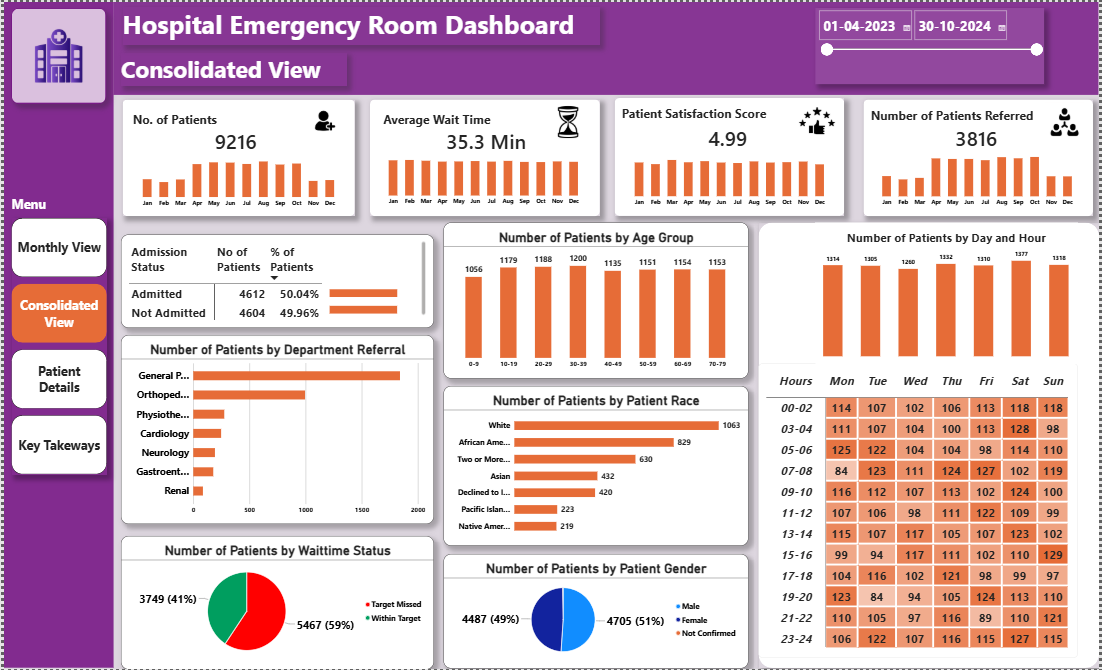

Layout of this report page (visuals, bound fields, positions):
{"tool":"powerbi","page":{"name":"Consolidated View","canvas":[2300,1400],"ordinal":1},"visuals":[{"type":"shape","box":[230,0,2067.5,195],"z":0},{"type":"shape","box":[767.5,205,482.5,245],"z":1000},{"type":"shape","box":[0,0,230,1397.5],"z":2000},{"type":"shape","box":[247.5,205,487.5,245],"z":3000},{"type":"textbox","box":[247.5,10,1001.1,81.1],"z":4000},{"type":"textbox","box":[246.7,106.7,473.3,70],"z":5000},{"type":"pivotTable","fields":{"Rows":["Hospital ER_Data.Admission Status"],"Values":["Hospital ER_Data.Number of Patients","Divide(Hospital ER_Data.Number of Patients, ScopedEval(Hospital ER_Data.Number of Patients, []))"]},"box":[246.7,486.7,656.7,196],"z":5000,"group":"g2"},{"type":"image","box":[15,12.5,198.5,201.3],"z":6000},{"type":"shape","box":[1803.3,203.3,481.7,245],"z":7000},{"type":"barChart","fields":{"Category":["Hospital ER_Data.Admission Status"],"Y":["Hospital ER_Data.Number of Patients"]},"box":[670,563.4,216.7,126.7],"z":7000,"group":"g2"},{"type":"barChart","fields":{"Category":["Hospital ER_Data.Department Referral"],"Y":["Hospital ER_Data.Number of Patients"]},"box":[246.7,700,656.7,396.7],"z":8000},{"type":"barChart","fields":{"Category":["Hospital ER_Data.Patient Race"],"Y":["Hospital ER_Data.Number of Patients"]},"box":[922.5,807.5,640,335],"z":9000},{"type":"card","title":"Number of Patients Referred","fields":{"Values":["Hospital ER_Data.No. of Patients Referred"]},"box":[1805,203.3,473.3,116.7],"z":10000},{"type":"pieChart","fields":{"Category":["Hospital ER_Data.Patient Gender"],"Y":["Hospital ER_Data.Number of Patients"]},"box":[922.5,1160,640,240],"z":11000},{"type":"shape","box":[1282.5,202.5,482.5,247.5],"z":12000},{"type":"columnChart","fields":{"Category":["Hospital ER_Data.Age Group"],"Y":["Hospital ER_Data.Number of Patients"]},"box":[922.5,462.5,640,327.5],"z":13000},{"type":"shape","box":[1582.5,462.5,715,935],"z":13000,"group":"g1"},{"type":"card","title":"No. of Patients","fields":{"Values":["Hospital ER_Data.Total Patients"]},"box":[255.1,214.2,462.2,113.3],"z":14000},{"type":"pivotTable","fields":{"Columns":["Date Table.Day Name"],"Rows":["Hospital ER_Data.Waittime Interval"],"Values":["Hospital ER_Data.Number of Patients"]},"box":[1582.5,760,670,617.5],"z":14000,"group":"g1"},{"type":"columnChart","title":"Number of Patients by Day and Hour","fields":{"Category":["Date Table.Day Name"],"Y":["Hospital ER_Data.Number of Patients"]},"box":[1702.5,462.5,550,297.5],"z":15000,"group":"g1"},{"type":"pieChart","fields":{"Category":["Hospital ER_Data.Waittime Status"],"Y":["Hospital ER_Data.Number of Patients"]},"box":[246.7,1120,656.7,280],"z":15000},{"type":"card","title":"Average Wait Time","fields":{"Values":["Hospital ER_Data.Avg Wait Time"]},"box":[780,214.2,462.5,113.3],"z":16000},{"type":"slicer","fields":{"Values":["Date Table.Date"]},"box":[1703.3,13.3,480,160],"z":17000},{"type":"card","title":"Patient Satisfaction Score","fields":{"Values":["Hospital ER_Data.Satisfaction Score"]},"box":[1282.5,202.5,475,125],"z":18000},{"type":"columnChart","fields":{"Category":["Date Table.Month Name"],"Y":["Hospital ER_Data.No. of Patients Referred"]},"box":[1815,301.7,458.3,146.7],"z":19000},{"type":"group","id":"g1","title":"Group 6","box":[1582.5,462.5,715,935],"z":20000},{"type":"group","id":"g2","title":"Group 5","box":[246.7,486.7,656.7,203.3],"z":21000},{"type":"columnChart","fields":{"Category":["Date Table.Month Name"],"Y":["Hospital ER_Data.Number of Patients"]},"box":[260.1,311.3,462.2,138.7],"z":22000},{"type":"columnChart","fields":{"Category":["Date Table.Month Name"],"Y":["Avg(Hospital ER_Data.Patient Waittime)"]},"box":[779.2,309,457.5,138.7],"z":23000},{"type":"columnChart","fields":{"Category":["Date Table.Month Name"],"Y":["Hospital ER_Data.Satisfaction Score"]},"box":[1293.3,309.1,457.5,140.1],"z":24000},{"type":"image","box":[615,208.3,120,83.3],"z":25000},{"type":"image","box":[1123.3,210,120,82.5],"z":26000},{"type":"image","box":[1646.7,208.3,120,82.5],"z":27000},{"type":"image","box":[2166.7,210,120,82.5],"z":28000},{"type":"pageNavigator","box":[16.7,453.3,200,540],"z":28001},{"type":"textbox","box":[16.7,406.7,133.3,43.3],"z":28002}]}

Visuals, with their boxes in screenshot pixels (x1, y1, x2, y2), scaled from the page's 2300x1400 canvas onto the 1102x670 screenshot:
shape: detection(110, 0, 1101, 93)
shape: detection(368, 98, 599, 215)
shape: detection(0, 0, 110, 669)
shape: detection(119, 98, 352, 215)
textbox: detection(119, 5, 598, 44)
textbox: detection(118, 51, 345, 85)
pivotTable - Hospital ER_Data.Admission Status x Hospital ER_Data.Number of Patients: detection(118, 233, 433, 327)
image: detection(7, 6, 102, 102)
shape: detection(864, 97, 1095, 215)
barChart - Hospital ER_Data.Admission Status x Hospital ER_Data.Number of Patients: detection(321, 270, 425, 330)
barChart - Hospital ER_Data.Department Referral x Hospital ER_Data.Number of Patients: detection(118, 335, 433, 525)
barChart - Hospital ER_Data.Patient Race x Hospital ER_Data.Number of Patients: detection(442, 386, 749, 547)
"Number of Patients Referred" card: detection(865, 97, 1092, 153)
pieChart - Hospital ER_Data.Patient Gender x Hospital ER_Data.Number of Patients: detection(442, 555, 749, 669)
shape: detection(614, 97, 846, 215)
columnChart - Hospital ER_Data.Age Group x Hospital ER_Data.Number of Patients: detection(442, 221, 749, 378)
shape: detection(758, 221, 1101, 669)
"No. of Patients" card: detection(122, 103, 344, 157)
pivotTable - Date Table.Day Name x Hospital ER_Data.Waittime Interval: detection(758, 364, 1079, 659)
"Number of Patients by Day and Hour" columnChart: detection(816, 221, 1079, 364)
pieChart - Hospital ER_Data.Waittime Status x Hospital ER_Data.Number of Patients: detection(118, 536, 433, 669)
"Average Wait Time" card: detection(374, 103, 595, 157)
slicer - Date Table.Date: detection(816, 6, 1046, 83)
"Patient Satisfaction Score" card: detection(614, 97, 842, 157)
columnChart - Date Table.Month Name x Hospital ER_Data.No. of Patients Referred: detection(870, 144, 1089, 215)
"Group 6" group: detection(758, 221, 1101, 669)
"Group 5" group: detection(118, 233, 433, 330)
columnChart - Date Table.Month Name x Hospital ER_Data.Number of Patients: detection(125, 149, 346, 215)
columnChart - Date Table.Month Name x Avg(Hospital ER_Data.Patient Waittime): detection(373, 148, 593, 214)
columnChart - Date Table.Month Name x Hospital ER_Data.Satisfaction Score: detection(620, 148, 839, 215)
image: detection(295, 100, 352, 140)
image: detection(538, 100, 596, 140)
image: detection(789, 100, 846, 139)
image: detection(1038, 100, 1096, 140)
pageNavigator: detection(8, 217, 104, 475)
textbox: detection(8, 195, 72, 215)
